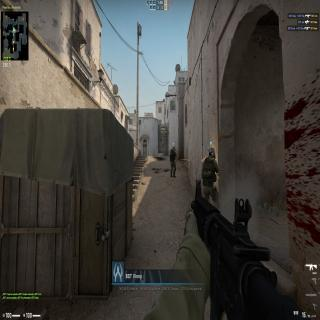CT-Head: (208, 147, 216, 159), (172, 146, 176, 151)
